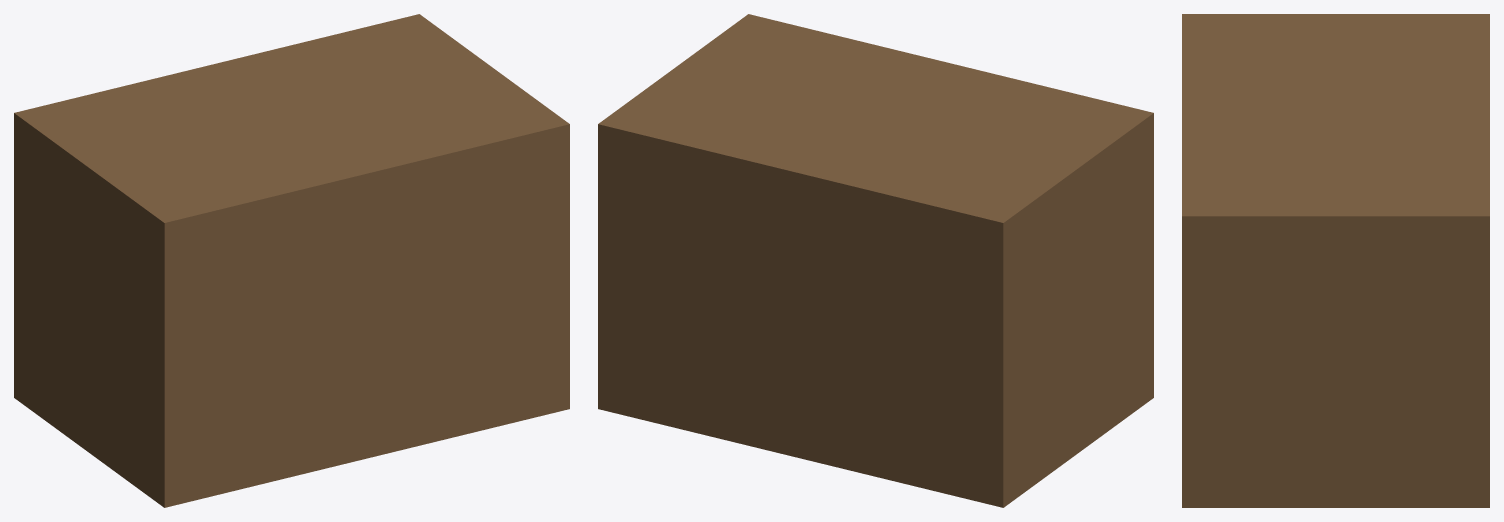
The model's file is chest-closed.glb.
The picture shows the model from 3 angles, left to right: view 1: azimuth 30°, elevation 25°; view 2: azimuth 150°, elevation 25°; view 3: azimuth 270°, elevation 25°; orthographic projection. The views are drawn at different scales.
Parts seen in each view (by area): view 1: chest-closed; view 2: chest-closed; view 3: chest-closed.
Part boxes in pixels (<box>): chest-closed: <box>14,14,569,507</box>; chest-closed: <box>598,14,1153,507</box>; chest-closed: <box>1182,14,1489,507</box>.
Bounding box in the file's own units: 0.7 × 0.47 × 0.45.
